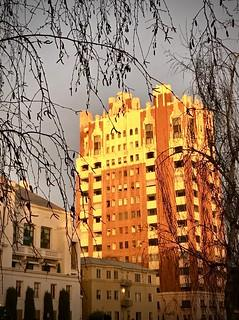building: (73, 80, 229, 320)
